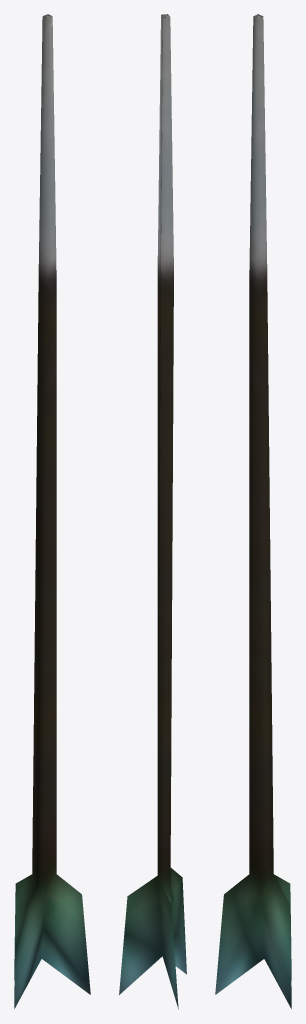
The model's file is tacticianArrowR.glb.
The picture shows the model from 3 angles, left to right: view 1: azimuth 90°, elevation 25°; view 2: azimuth 150°, elevation 25°; view 3: azimuth 270°, elevation 25°; orthographic projection.
Visible parts, largest first — view 1: tacticianArrowR; view 2: tacticianArrowR; view 3: tacticianArrowR.
Boxes of the visible parts, x1=… form: tacticianArrowR: x1=14, y1=14, x2=90, y2=1008; tacticianArrowR: x1=119, y1=14, x2=186, y2=1009; tacticianArrowR: x1=215, y1=14, x2=291, y2=1008.
Size of the model in its own units: 0.0745 by 1.16 by 0.0826.
1 material, 1 textured.
